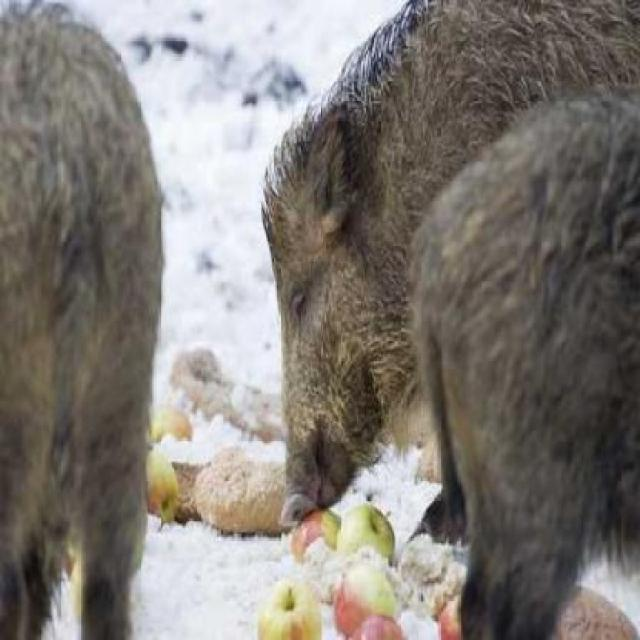Boar: (229, 0, 640, 638), (418, 81, 640, 614), (0, 0, 184, 632)
